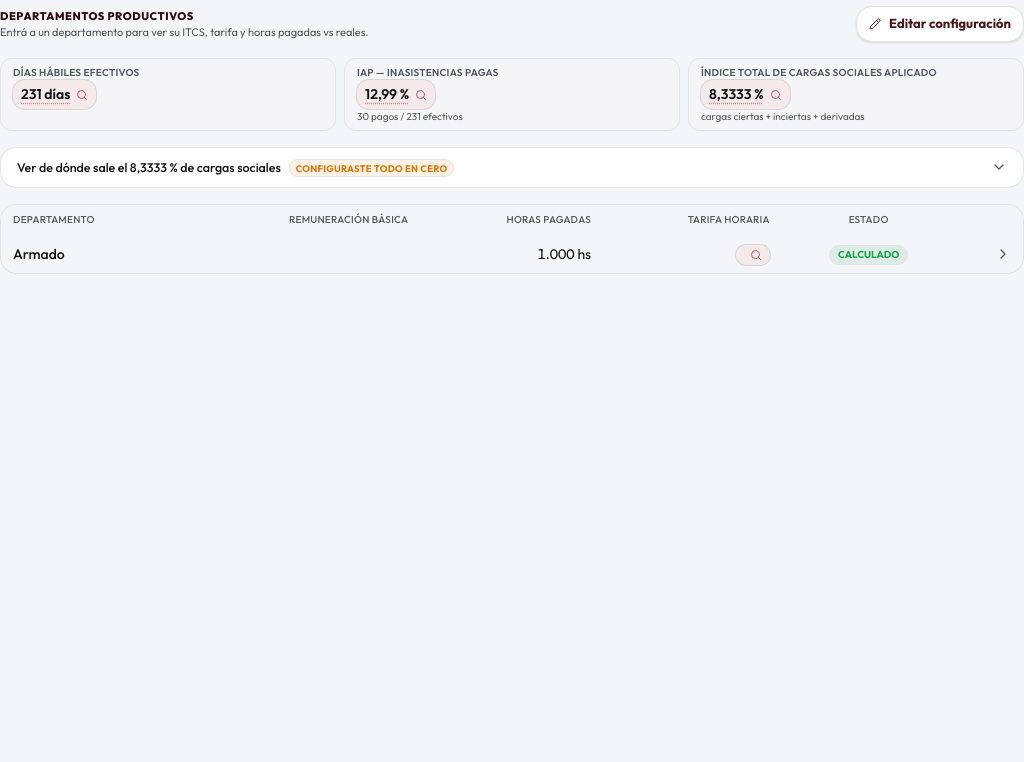
Mano de Obra — el modo resalta lo que tiene origen › la remuneración básica es un dato cargado sin ficha alcanzable: queda sin marcar
Click the text "Armado": (39, 254) x1=1 y1=235 x2=179 y2=273
(page scrolled)
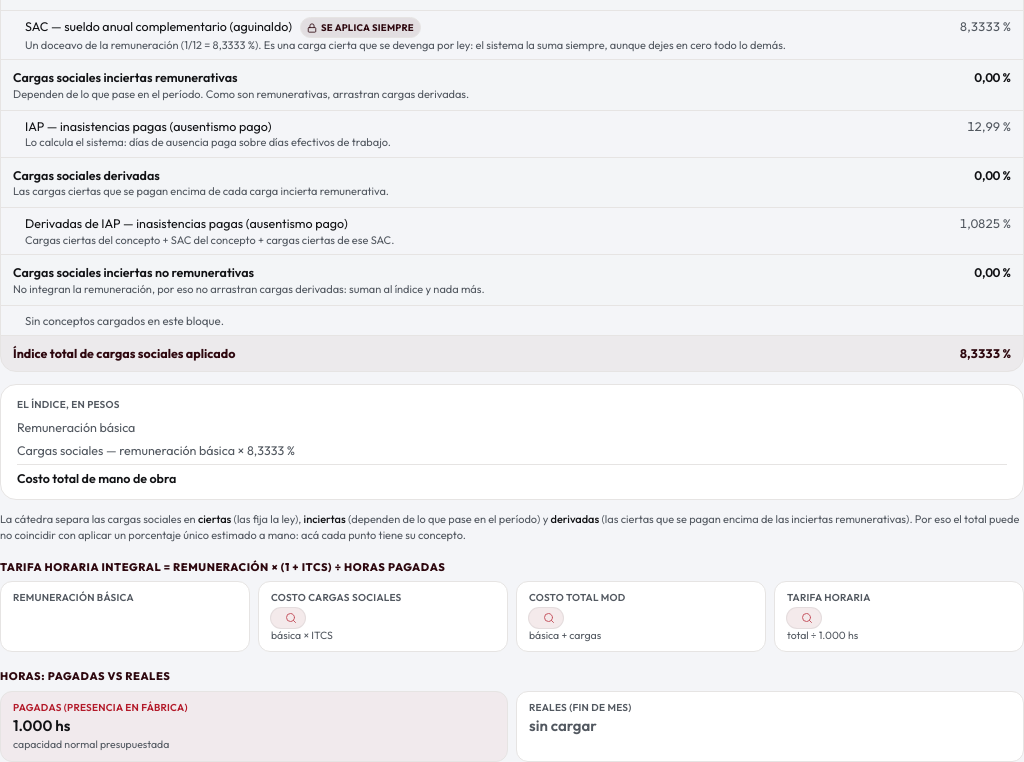
Result: the text "Remuneración básica" below "El índice, en pesos" is shown at x1=17 y1=419 x2=135 y2=435
